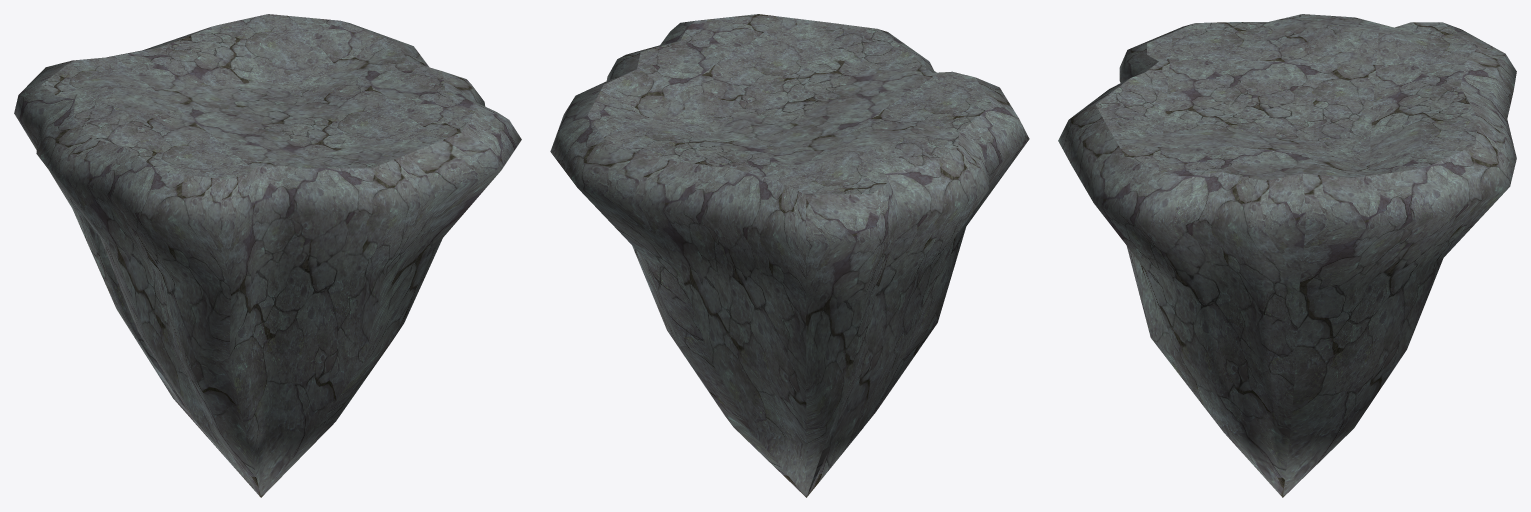
File: stone.FBX
The picture shows the model from 3 angles, left to right: view 1: azimuth 30°, elevation 25°; view 2: azimuth 150°, elevation 25°; view 3: azimuth 270°, elevation 25°; orthographic projection. The views are drawn at different scales.
Parts seen in each view (by area): view 1: Object03; view 2: Object03; view 3: Object03.
Boxes of the visible parts, <box> form: Object03: <box>14,14,521,497</box>; Object03: <box>550,14,1029,497</box>; Object03: <box>1058,14,1516,497</box>.
Size of the model in its own units: 174 by 169 by 168.
1 material, 1 textured.
